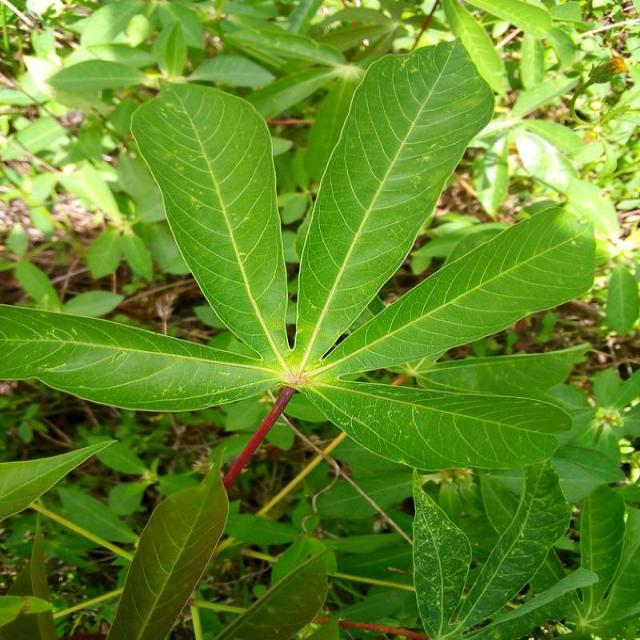cassava leaf: (3, 35, 597, 483), (292, 35, 497, 376), (130, 79, 290, 369), (107, 457, 230, 638)
